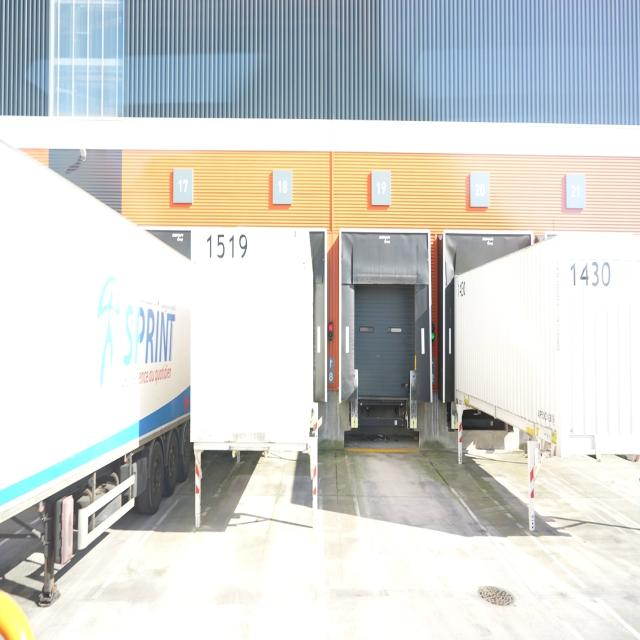Code: (563, 250, 616, 300), (204, 230, 252, 264)
